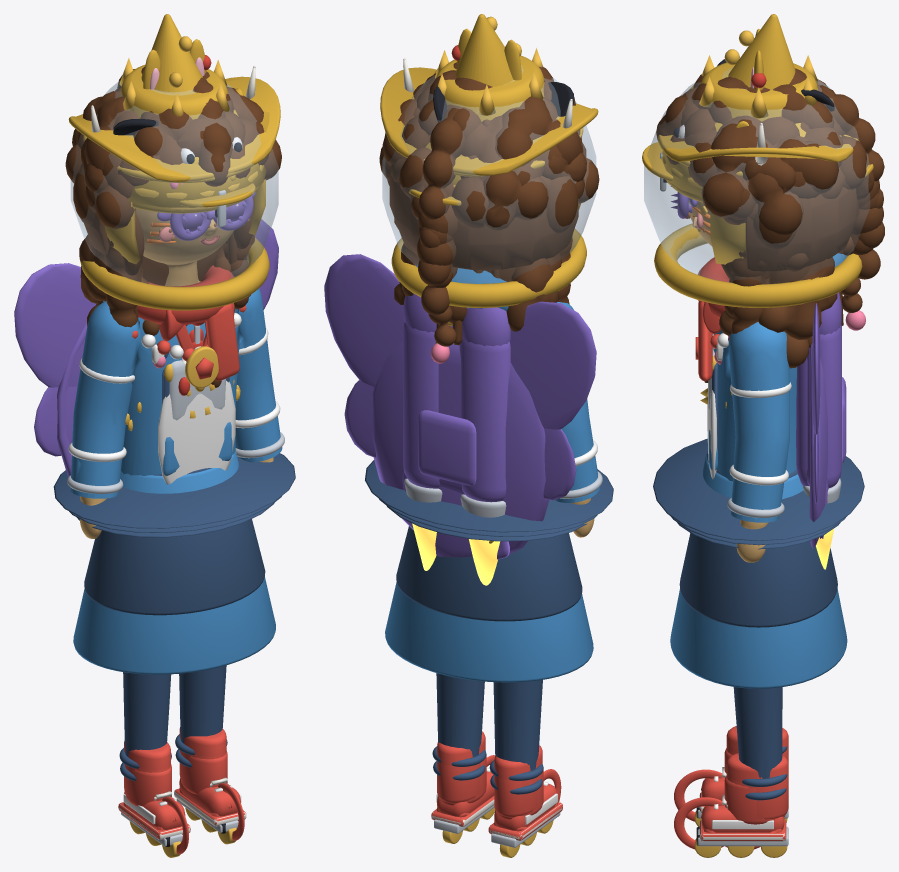
File: avatar-real.glb
3 views of the same model, side by side, from view 1: azimuth 30°, elevation 25°; view 2: azimuth 150°, elevation 25°; view 3: azimuth 270°, elevation 25° (orthographic). The views are drawn at different scales.
Parts seen in each view (by area): view 1: hat_hjalm, top_rymd, top_klanning, bottom_kjol, bottom_tutu, back_vingar, hair_afro, hat_cowboy, bottom_snickarbyxor, top_dino, bas_kropp, neck_halsduk (+31 smaller); view 2: hat_hjalm, back_vingar, back_jetpack, top_klanning, bottom_kjol, hair_afro, back_mantel, bottom_snickarbyxor, hat_cowboy, bottom_tutu, hair_page, back_ryggsack (+23 smaller); view 3: hat_hjalm, top_rymd, hair_afro, top_klanning, bottom_kjol, bottom_tutu, hair_page, hat_cowboy, back_jetpack, bottom_snickarbyxor, hair_lockigtlangt, hat_trollhatt (+27 smaller).
Part boxes in pixels (x1,y1,x2,y2): hat_hjalm: (70, 55, 278, 310); top_rymd: (67, 288, 284, 498); top_klanning: (73, 451, 275, 674); bottom_kjol: (84, 468, 265, 615); bottom_tutu: (53, 453, 295, 537); back_vingar: (14, 219, 278, 456); hair_afro: (65, 71, 281, 229); hat_cowboy: (68, 65, 280, 181); bottom_snickarbyxor: (123, 352, 229, 756); top_dino: (103, 301, 235, 484); bas_kropp: (79, 208, 273, 538); neck_halsduk: (137, 265, 239, 380); hat_hjalm: (382, 45, 596, 307); back_vingar: (324, 254, 596, 500); back_jetpack: (403, 294, 510, 585); top_klanning: (385, 582, 593, 682); bottom_kjol: (396, 526, 582, 621); hair_afro: (379, 62, 599, 231); back_mantel: (372, 341, 549, 554); bottom_snickarbyxor: (436, 673, 542, 770); hat_cowboy: (380, 55, 598, 175); bottom_tutu: (365, 460, 613, 541); hair_page: (389, 166, 578, 269); back_ryggsack: (418, 343, 476, 494); hat_hjalm: (644, 67, 869, 307); top_rymd: (704, 322, 796, 522); hair_afro: (656, 74, 874, 234); top_klanning: (670, 451, 847, 688); bottom_kjol: (679, 453, 837, 627); bottom_tutu: (653, 438, 864, 549); hair_page: (745, 187, 858, 271); hat_cowboy: (658, 62, 858, 162); back_jetpack: (803, 292, 841, 569); bottom_snickarbyxor: (711, 356, 782, 778); hair_lockigtlangt: (666, 122, 849, 339); hat_trollhatt: (658, 14, 838, 176).
Size of the model in its own units: 0.9121 by 2.68 by 0.7118.
